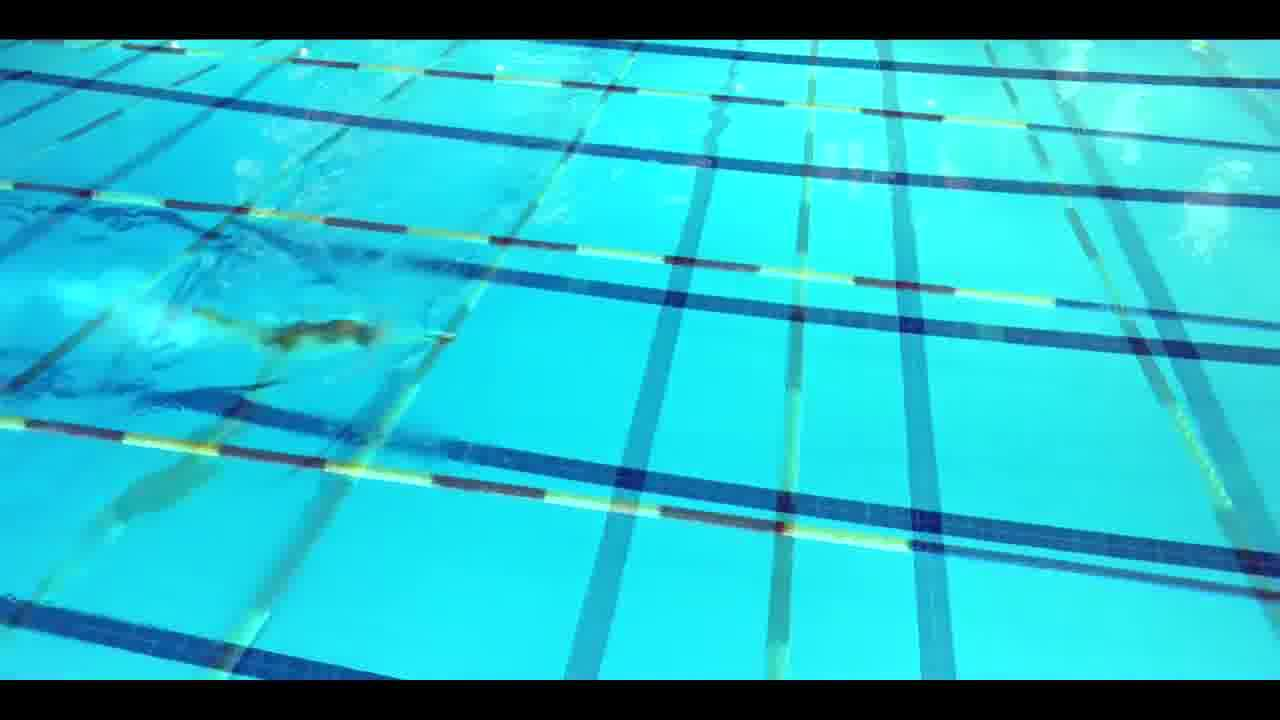swimmer: (46, 400, 270, 571), (196, 305, 395, 355)
